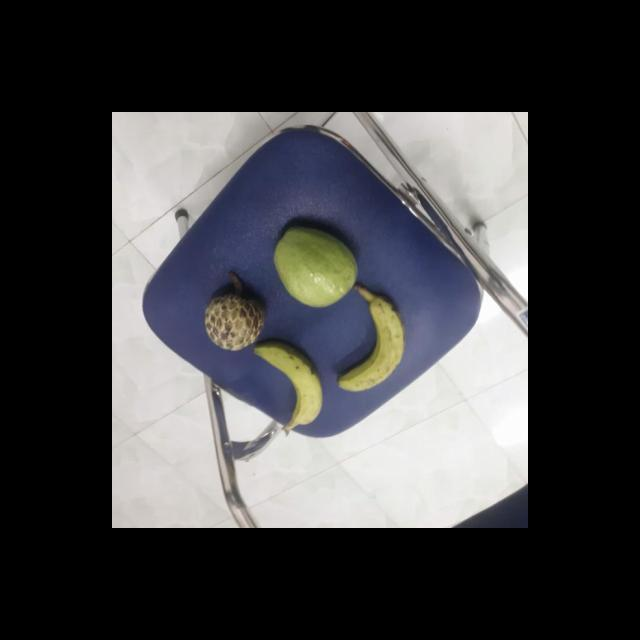Sakya fruit: (203, 282, 267, 350)
banana: (336, 297, 409, 393), (254, 342, 328, 430)
guava: (273, 226, 361, 306)
